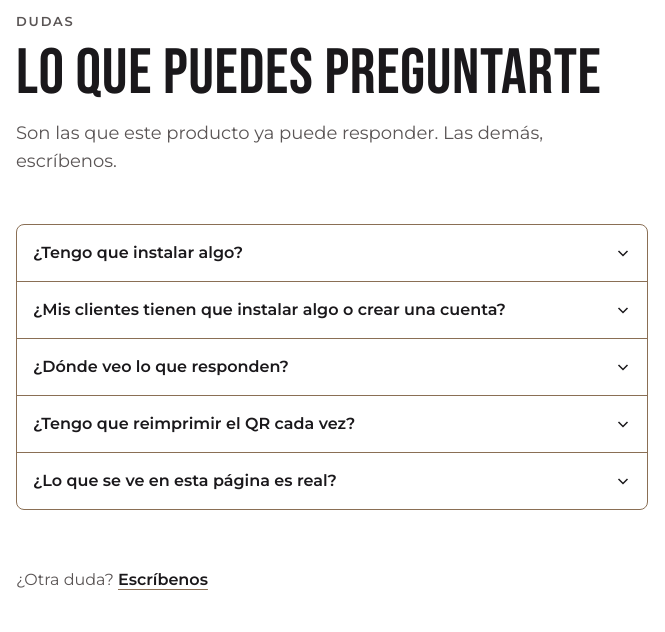
it: Faqs › multiple items can be open at once
Step 1. Click the button "¿Tengo que instalar algo?" → (138, 253), box [17,225,647,281]
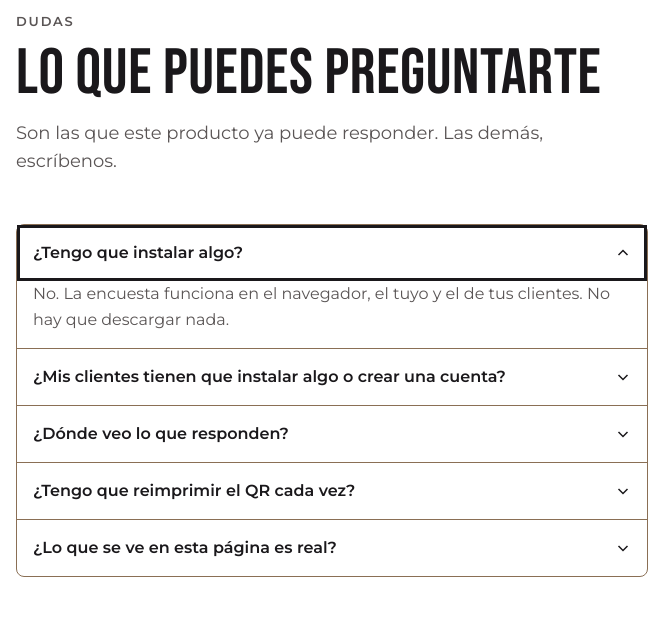
Step 2. Click the button "¿Dónde veo lo que responden?" → (161, 434), box [17,406,647,462]
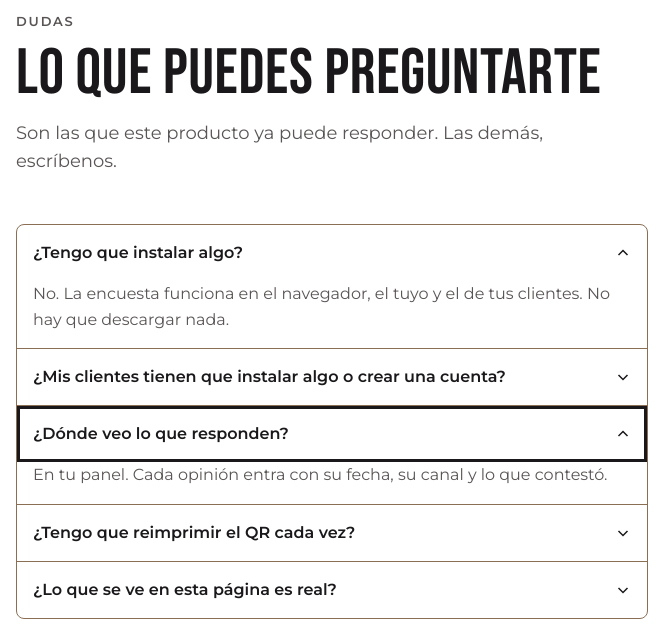
Expected: the button "¿Tengo que instalar algo?" is expanded, [17,225,647,281]
Expected: the element named "¿Tengo que instalar algo?" is shown, [17,281,647,348]
Expected: the button "¿Dónde veo lo que responden?" is expanded, [17,406,647,462]
